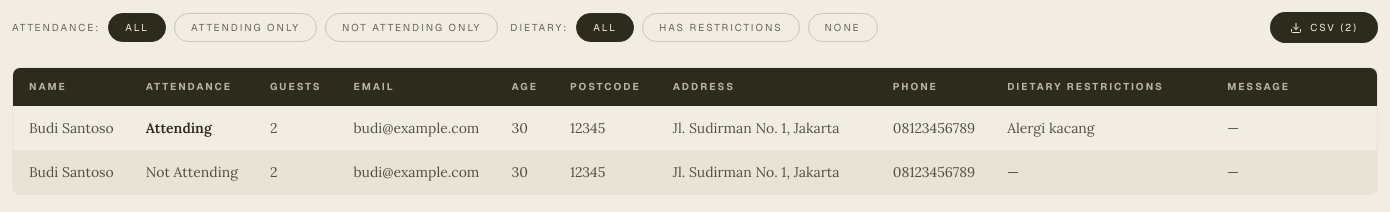
it: RsvpTable — filtering › narrows to rows with dietary restrictions via the dietary filter chip
Click the button "Has restrictions": (721, 28) top-left (642, 13), bottom-right (800, 42)
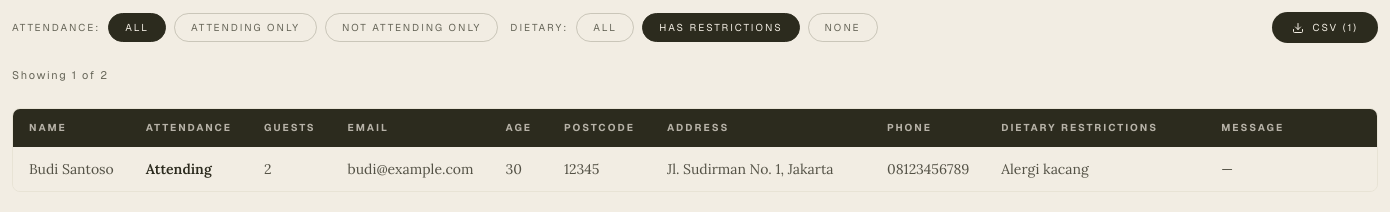
Expected: the text "Showing 1 of 2" is shown, top-left (12, 68), bottom-right (109, 82)
